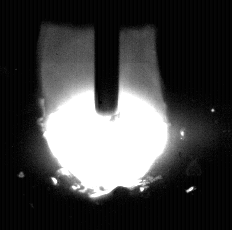arame: (95, 0, 121, 121)
poca: (43, 0, 169, 230)
